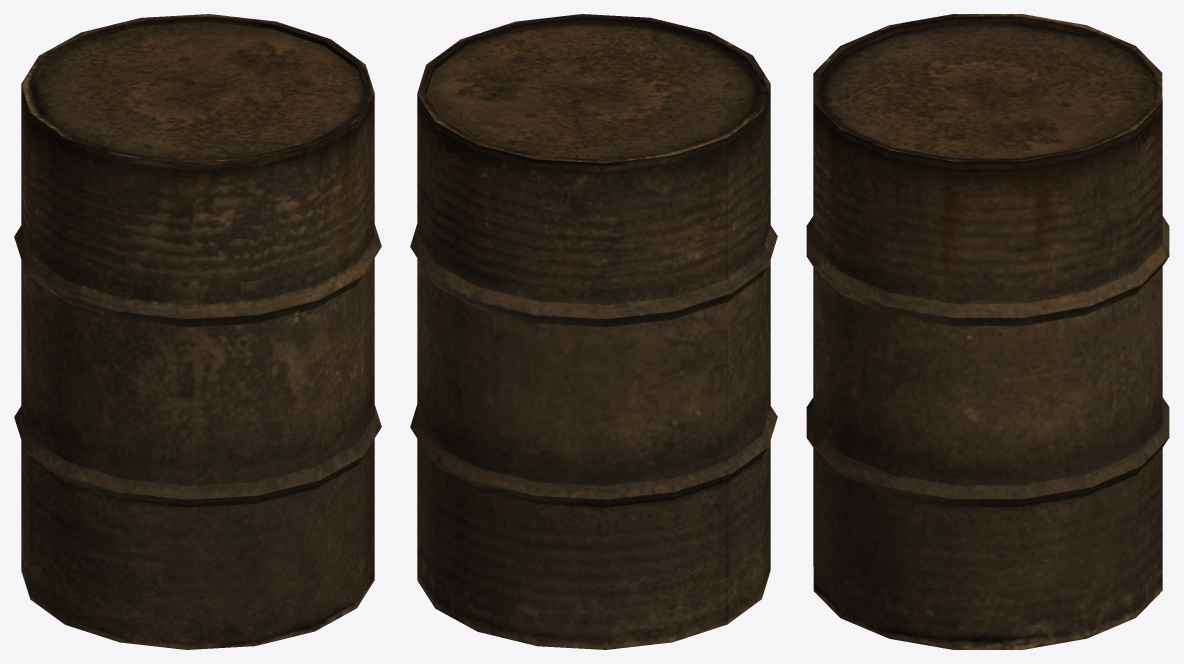
The model's file is metal_barrel_hr_4_1.obj.
The picture shows the model from 3 angles, left to right: view 1: azimuth 30°, elevation 25°; view 2: azimuth 150°, elevation 25°; view 3: azimuth 270°, elevation 25°; orthographic projection.
Visible parts, largest first — view 1: metal_barrel_hr_4_1; view 2: metal_barrel_hr_4_1; view 3: metal_barrel_hr_4_1.
Boxes of the visible parts, x1=… form: metal_barrel_hr_4_1: x1=14, y1=14, x2=381, y2=649; metal_barrel_hr_4_1: x1=410, y1=14, x2=777, y2=649; metal_barrel_hr_4_1: x1=806, y1=14, x2=1169, y2=649.
Bounding box in the file's own units: 0.6735 × 1 × 0.6735.
